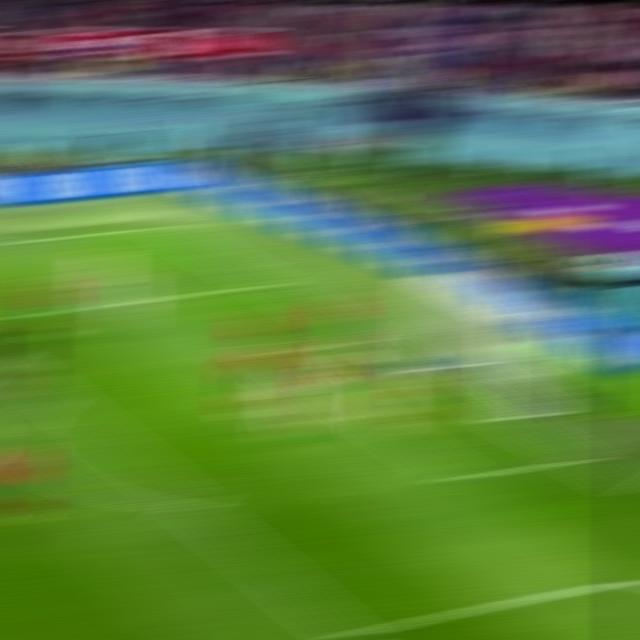bigarea_bottom_inner: (321, 614, 375, 639)
bigarea_top_outter: (247, 275, 288, 293)
bottom_arc_area_intersection: (168, 489, 216, 522)
corner: (139, 219, 183, 233)
smallarea_bottom_inner: (440, 462, 488, 493)
smallarea_bottom_outter: (554, 445, 600, 471)
smallarea_top_outter: (344, 327, 386, 347)
top_arc_area_intersection: (35, 387, 76, 408)
